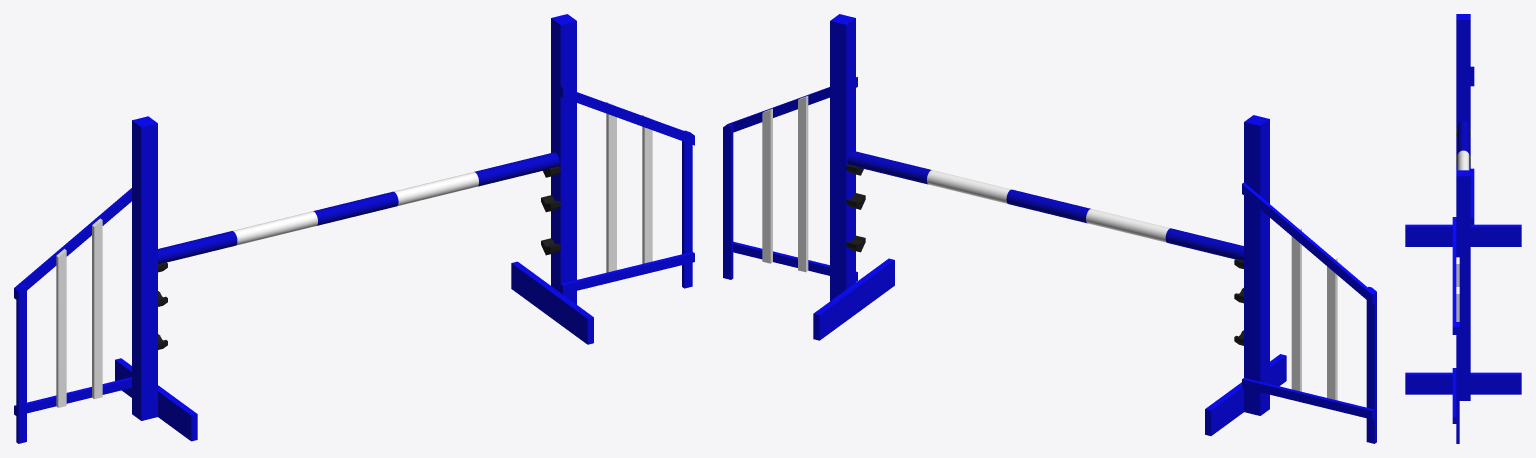
File: Over-1.gltf
3 renders of one model, left to right at view 1: azimuth 30°, elevation 25°; view 2: azimuth 150°, elevation 25°; view 3: azimuth 270°, elevation 25°, orthographic. The views are drawn at different scales.
Visible parts, largest first — view 1: Side (×2), polesection (×3), polesection#1 (×2); view 2: Side (×2), polesection (×3), polesection#1 (×2); view 3: Side (×2), polesection, polesection#1.
Boxes of the visible parts, left/top/right/bottom form: Side (×2): left=14, top=14, right=694, bottom=443; polesection (×3): left=158, top=152, right=559, bottom=263; polesection#1 (×2): left=232, top=172, right=478, bottom=245; Side (×2): left=723, top=14, right=1376, bottom=443; polesection (×3): left=847, top=150, right=1243, bottom=260; polesection#1 (×2): left=927, top=170, right=1169, bottom=242; Side (×2): left=1405, top=14, right=1521, bottom=443; polesection: left=1457, top=120, right=1469, bottom=154; polesection#1: left=1457, top=150, right=1469, bottom=170.
Bounding box in the file's own units: 2.02 × 0.85 × 0.4.
